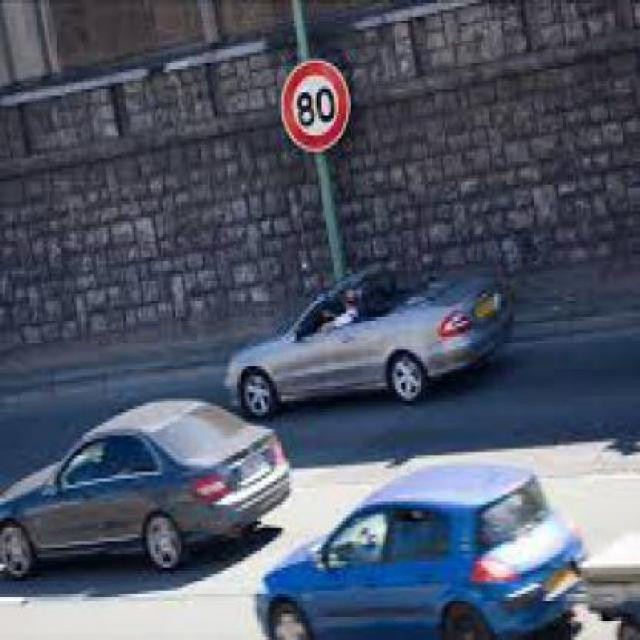speed_limit_80: (280, 59, 348, 152)
